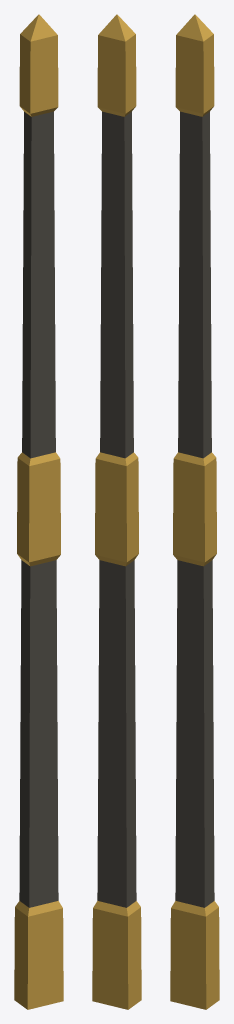
File: Rapier_1_Sheath.fbx
The picture shows the model from 3 angles, left to right: view 1: azimuth 30°, elevation 25°; view 2: azimuth 150°, elevation 25°; view 3: azimuth 330°, elevation 25°; orthographic projection.
Parts seen in each view (by area): view 1: Rapier_1_Sheath; view 2: Rapier_1_Sheath; view 3: Rapier_1_Sheath.
Part boxes in pixels (left/top/right/bottom): Rapier_1_Sheath: left=14, top=14, right=63, bottom=1009; Rapier_1_Sheath: left=92, top=14, right=141, bottom=1009; Rapier_1_Sheath: left=170, top=14, right=219, bottom=1009.
Bounding box in the file's own units: 4.3 × 113 × 2.79.
